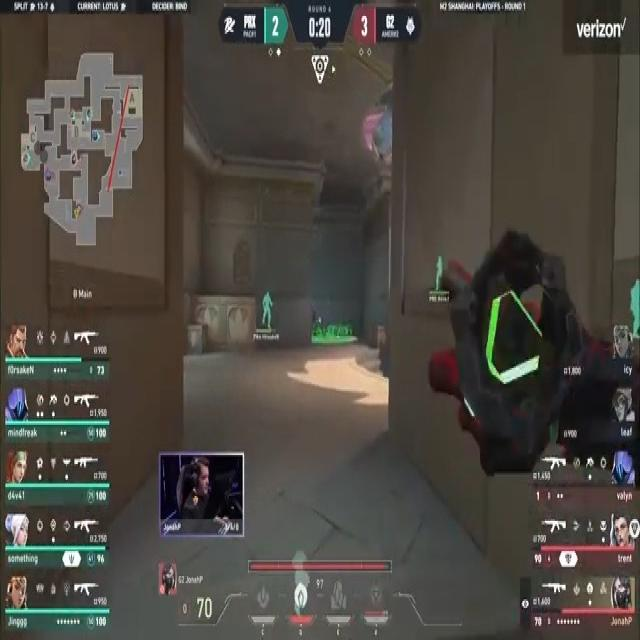ally behind wall: (260, 291, 274, 331)
